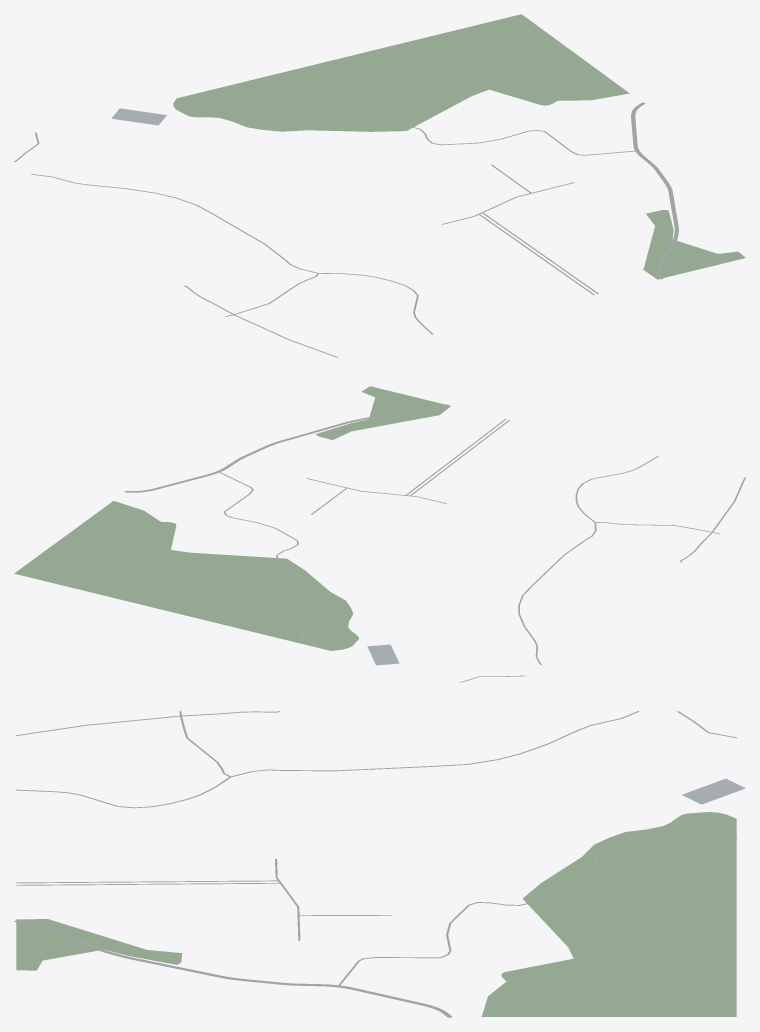
Rendered from -17_32-known-fine.glb.
The picture shows the model from 3 angles, top to bottom: view 1: azimuth 30°, elevation 25°; view 2: azimuth 150°, elevation 25°; view 3: azimuth 270°, elevation 25°; orthographic projection. The views are drawn at different scales.
Size of the model in its own units: 1003 by 0.15 by 1011.
